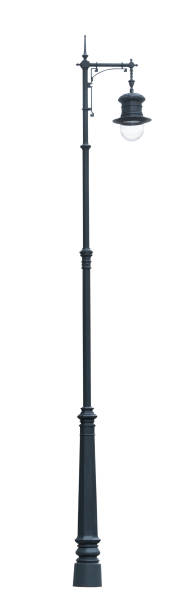light_pole: (70, 140, 111, 587)
